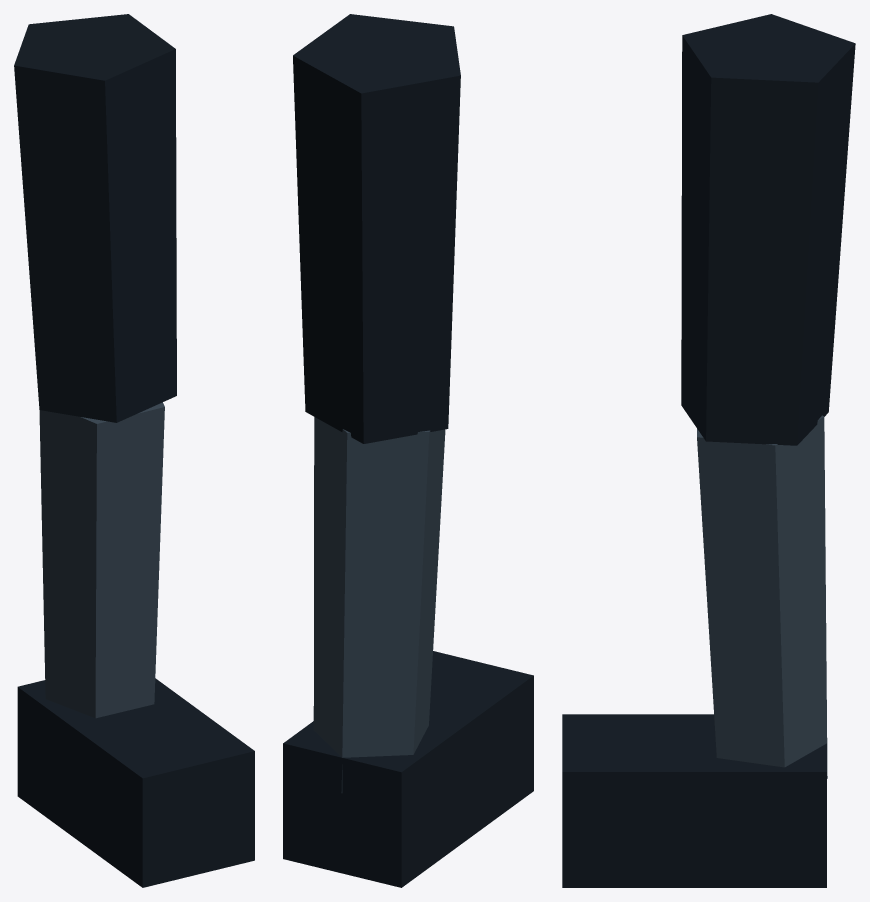
The model's file is soldier_leg_l.glb.
3 views of the same model, side by side, from view 1: azimuth 30°, elevation 25°; view 2: azimuth 150°, elevation 25°; view 3: azimuth 270°, elevation 25° (orthographic). The views are drawn at different scales.
Parts seen in each view (by area): view 1: soldier_leg_l; view 2: soldier_leg_l; view 3: soldier_leg_l.
Part boxes in pixels (left/top/right/bottom): soldier_leg_l: left=14, top=14, right=254, bottom=887; soldier_leg_l: left=283, top=14, right=533, bottom=887; soldier_leg_l: left=562, top=14, right=855, bottom=887.
Bounding box in the file's own units: 0.1899 × 0.9739 × 0.3212.
